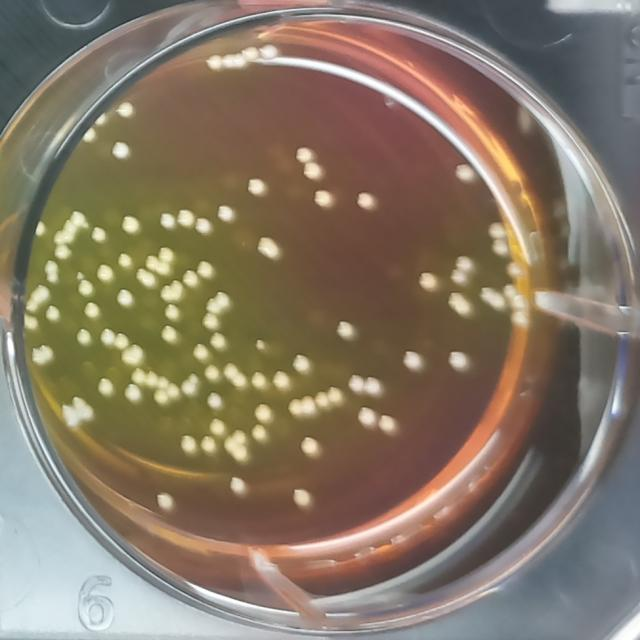StaphyloPositive: (50, 212, 84, 259), (59, 393, 95, 427), (504, 284, 530, 328), (202, 45, 245, 70), (142, 244, 174, 276), (485, 222, 510, 262), (444, 348, 476, 378), (477, 283, 506, 314), (222, 429, 249, 462), (448, 252, 472, 286), (222, 359, 247, 391), (23, 285, 50, 313), (131, 369, 167, 390), (331, 316, 358, 342), (152, 383, 182, 406), (258, 236, 282, 264), (353, 188, 381, 212), (205, 291, 233, 315), (448, 290, 471, 319), (246, 173, 272, 198), (315, 386, 344, 408), (158, 280, 183, 304), (452, 159, 476, 183), (286, 398, 316, 417), (290, 351, 314, 374), (402, 349, 425, 373), (122, 344, 145, 368), (288, 485, 314, 506), (31, 346, 55, 368), (136, 268, 159, 290), (299, 436, 321, 459), (354, 406, 377, 428), (418, 270, 439, 294), (242, 38, 261, 64), (154, 491, 176, 513), (252, 402, 275, 423), (118, 214, 140, 235), (70, 326, 92, 347), (95, 376, 116, 398), (179, 267, 200, 289), (122, 384, 144, 405), (158, 209, 178, 232), (96, 262, 115, 286), (44, 259, 62, 284), (193, 216, 214, 237), (114, 100, 136, 120), (292, 142, 312, 164), (249, 422, 271, 442), (376, 414, 398, 434), (111, 139, 131, 160), (313, 189, 334, 209), (88, 224, 108, 245), (176, 207, 196, 228), (116, 288, 135, 310), (364, 376, 386, 395), (199, 311, 219, 331), (270, 370, 290, 390), (179, 434, 197, 456), (192, 343, 211, 363), (249, 370, 268, 390), (206, 390, 225, 410), (209, 417, 229, 436), (348, 374, 366, 395), (304, 165, 326, 182), (198, 258, 215, 280), (181, 374, 198, 396), (43, 304, 62, 323), (210, 332, 229, 351), (78, 279, 96, 299), (261, 44, 281, 62), (99, 325, 114, 348), (161, 324, 178, 344), (229, 476, 246, 496), (216, 204, 234, 222), (204, 365, 222, 383), (506, 261, 526, 277), (254, 337, 270, 357), (84, 302, 101, 320), (201, 437, 218, 454), (80, 126, 96, 144), (164, 302, 178, 320), (114, 332, 128, 349), (116, 254, 133, 268)
